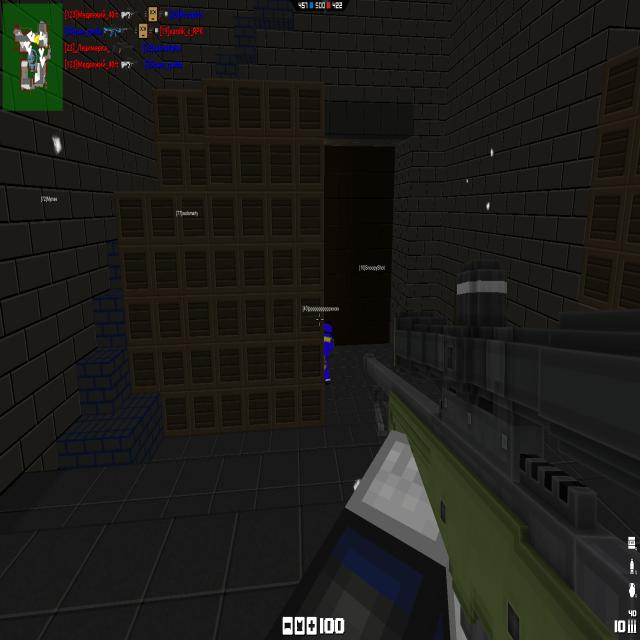player: (322, 322, 333, 382)
